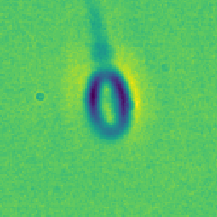normal: (80, 1, 117, 67)
